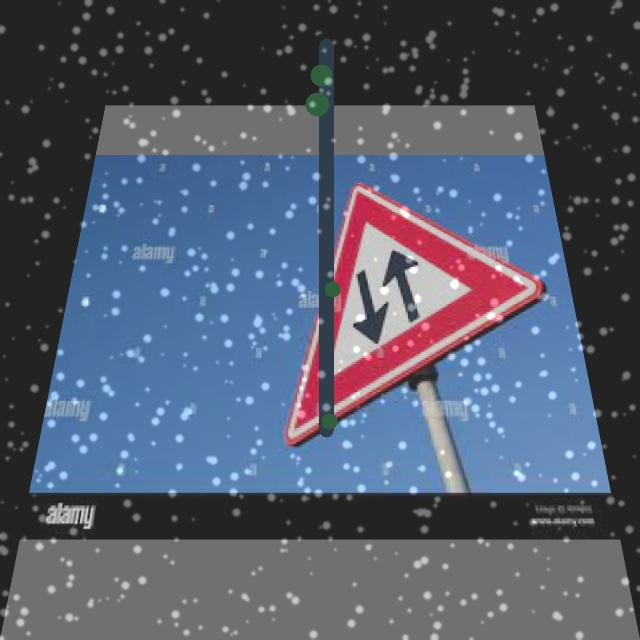Mandatory_Two_Way_Traffic: (282, 185, 558, 413)
